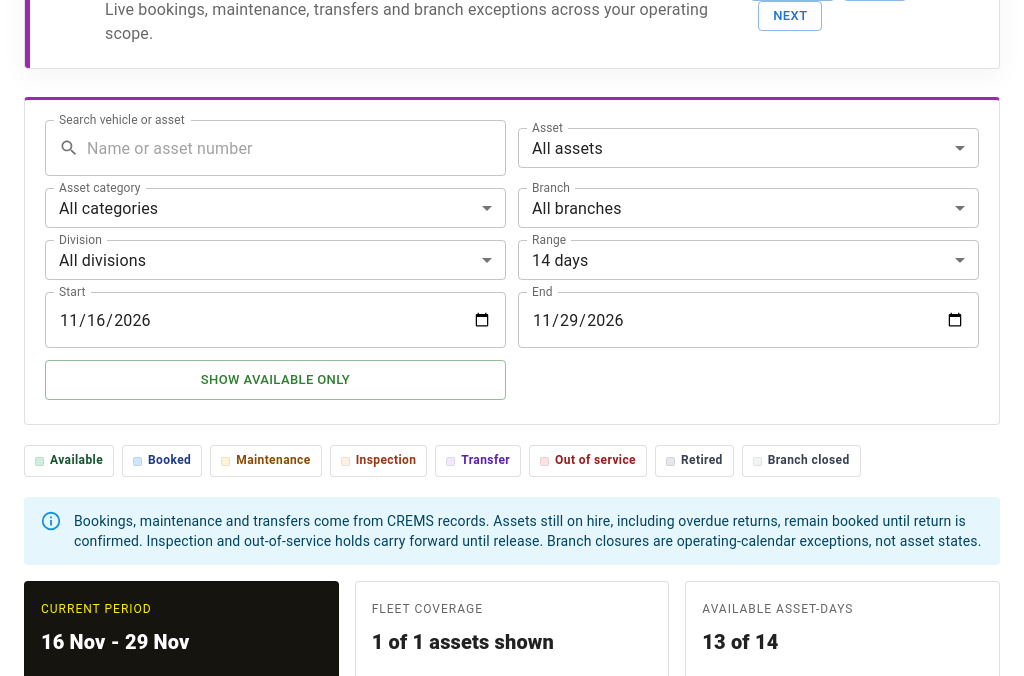
Scenario: shows scheduled Confirmed events and filters busy assets from availability-only results
Click the button "Show available only". click: click(276, 380)
box: [45,360,506,400]
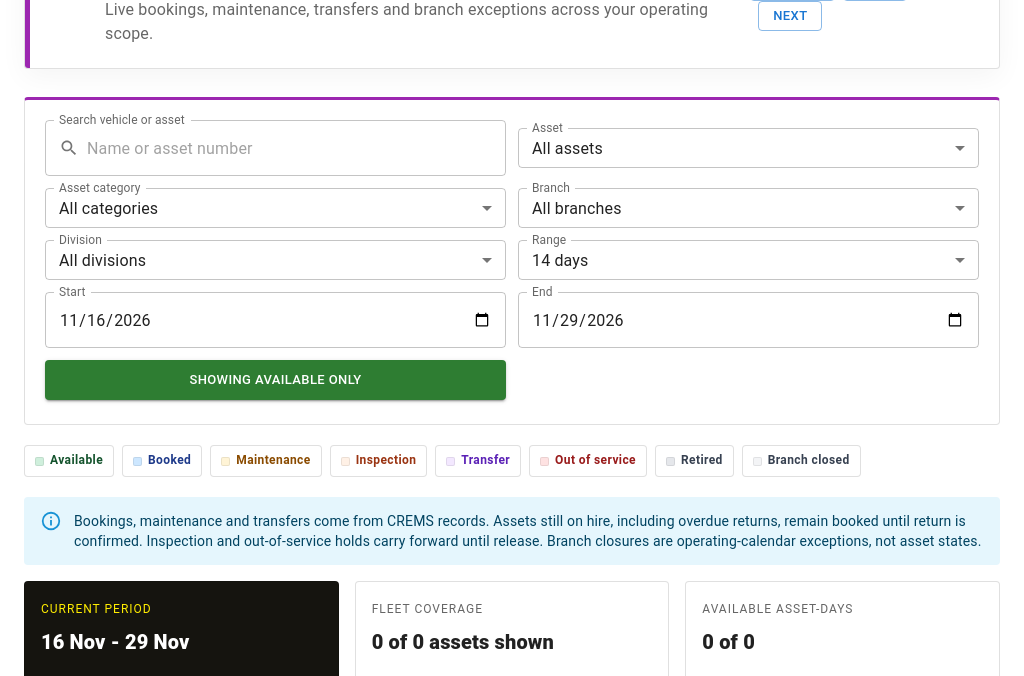
Click the button "Showing available only". click: click(276, 380)
box: [45,360,506,400]
(page scrolled)
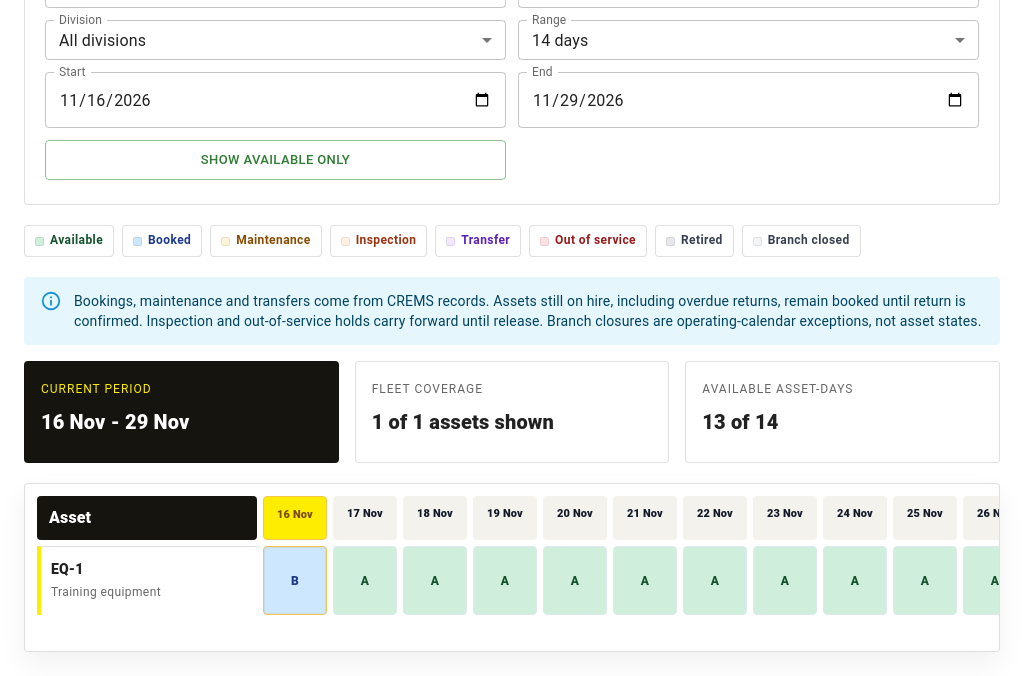
Expected: the text "Training equipment" is shown, [51,585,161,599]
